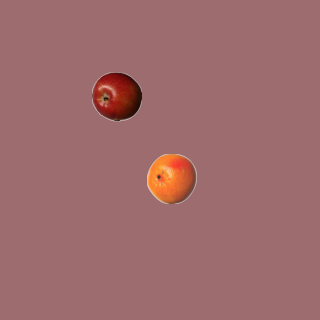Apple Braeburn: (91, 71, 141, 121)
Grapefruit Pink: (146, 153, 196, 203)
